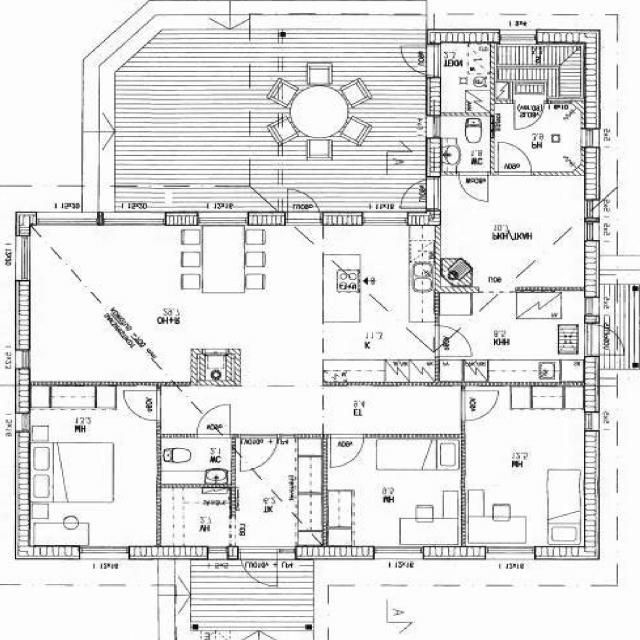door: (240, 546, 278, 594), (584, 324, 634, 356), (288, 182, 320, 225), (240, 434, 277, 471), (394, 180, 441, 208), (395, 48, 441, 76), (498, 142, 532, 176), (331, 433, 364, 468), (461, 390, 499, 420), (437, 326, 474, 356), (198, 404, 230, 438), (124, 391, 161, 420), (514, 99, 544, 131), (459, 172, 489, 202)
